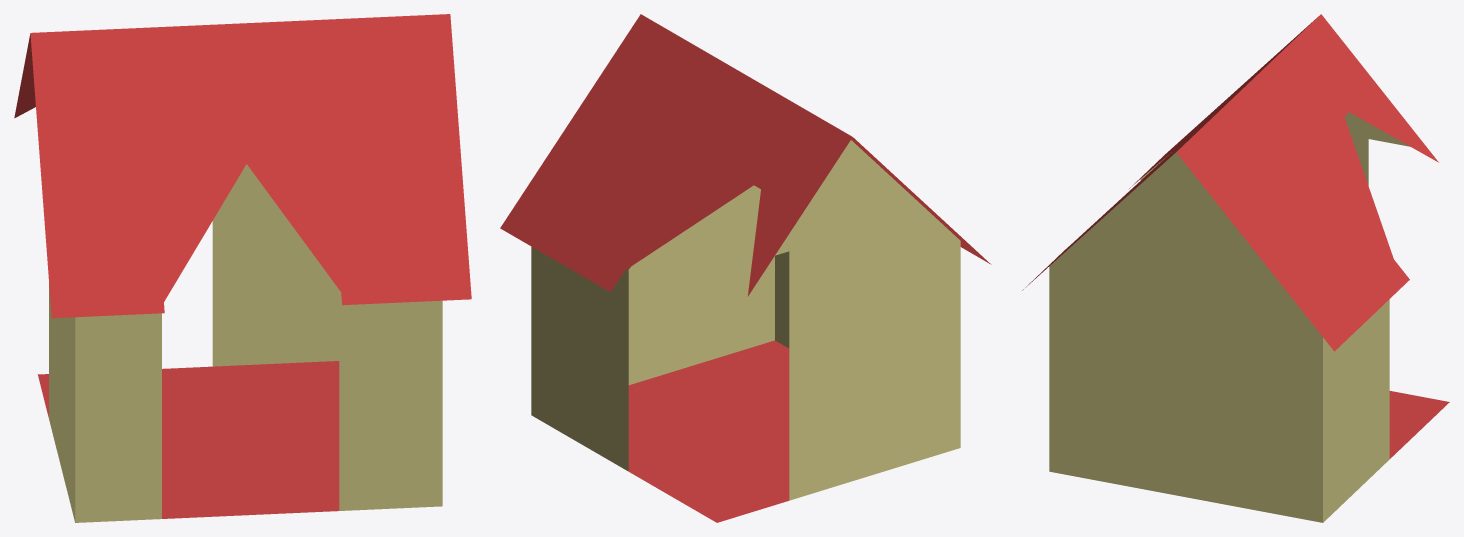
3 views of the same model, side by side, from view 1: azimuth 30°, elevation 25°; view 2: azimuth 150°, elevation 25°; view 3: azimuth 270°, elevation 25° (orthographic). The views are drawn at different scales.
Size of the model in its own units: 15.66 by 14.44 by 13.1.
